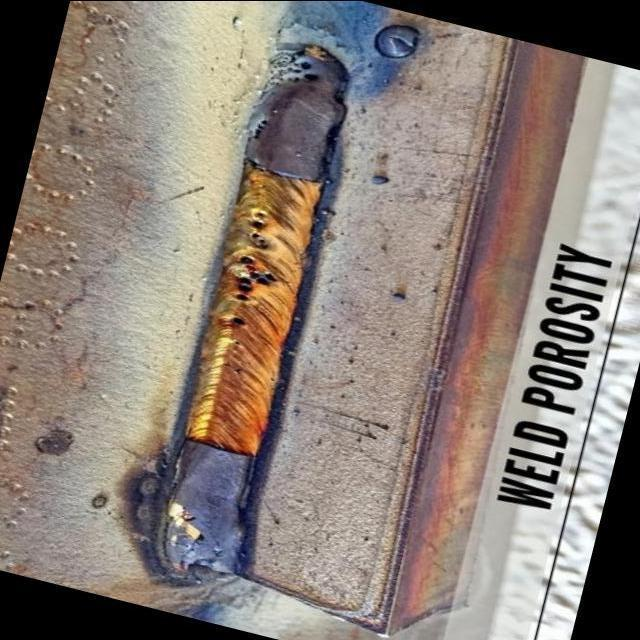defect: (229, 252, 285, 305), (260, 51, 322, 95), (248, 209, 271, 249), (251, 117, 270, 141), (220, 360, 242, 375), (228, 316, 251, 329), (228, 337, 242, 347)
